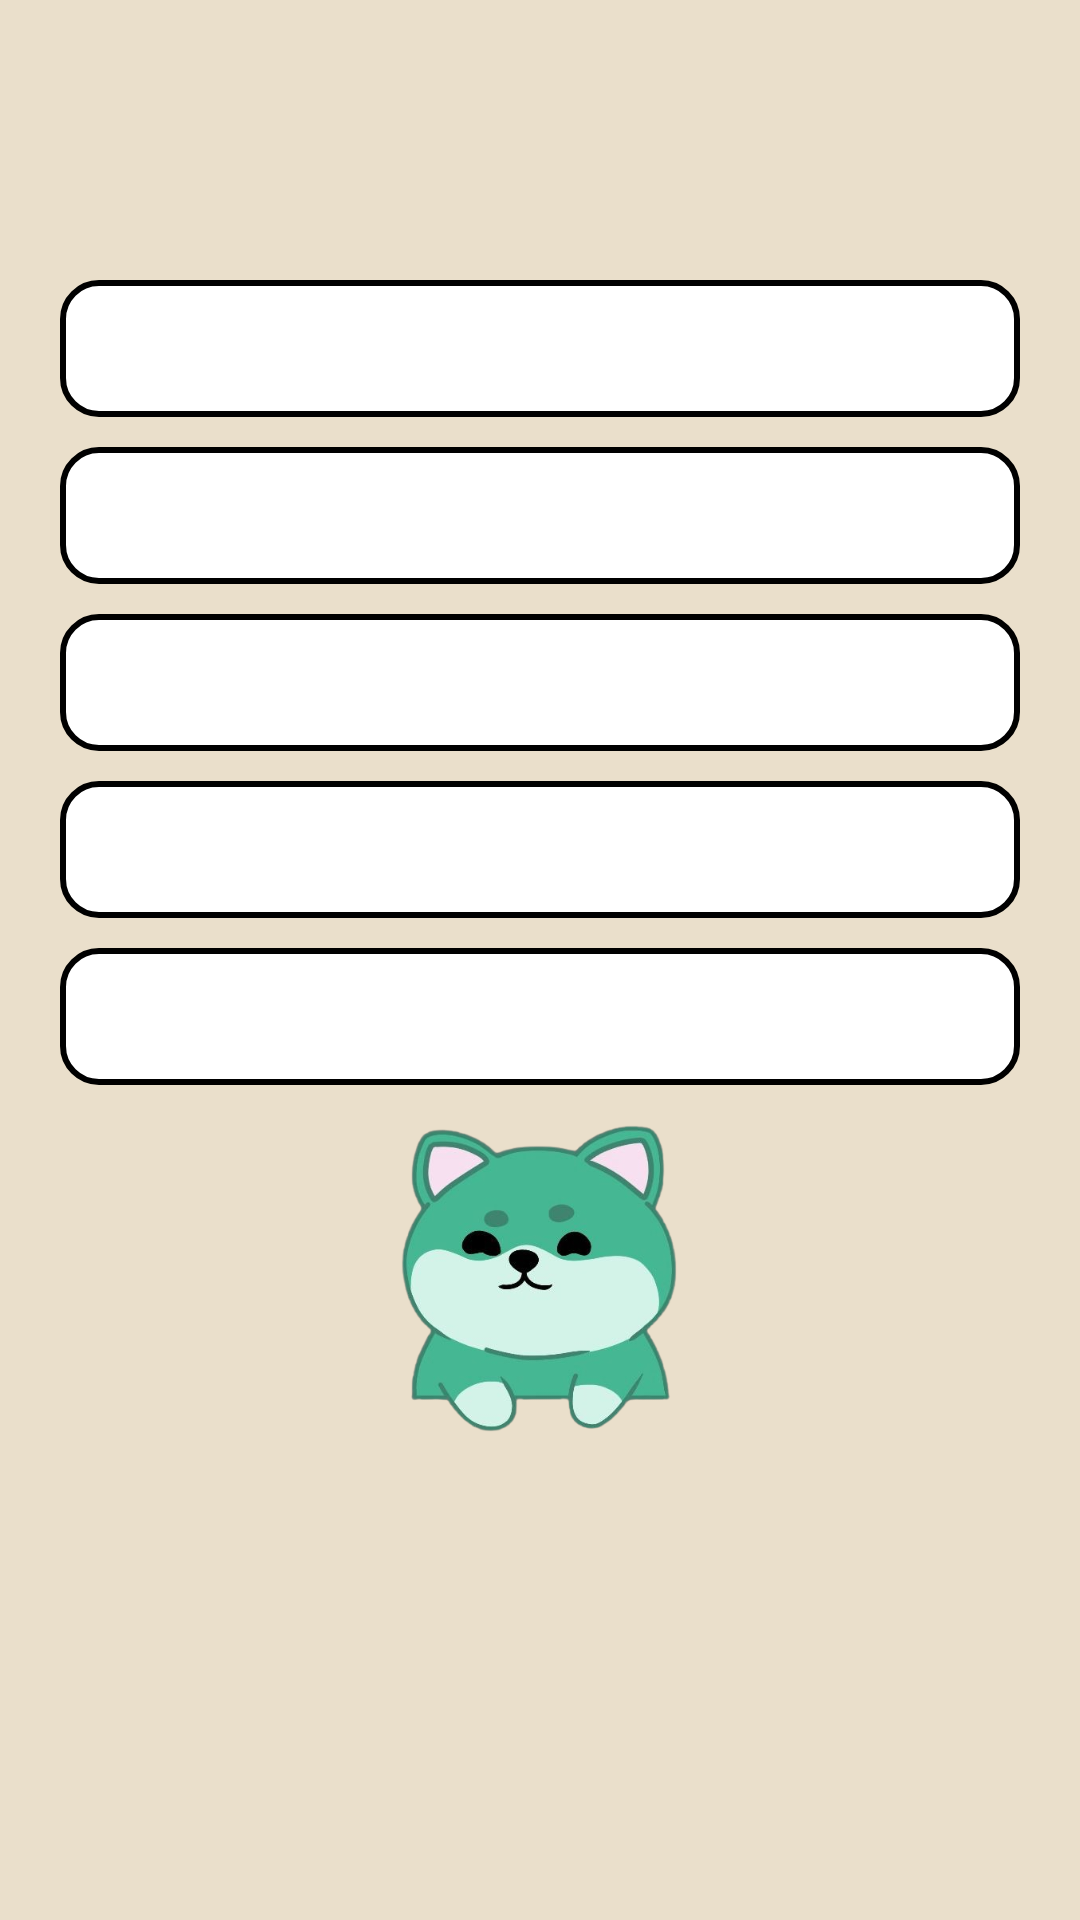

Where icons sit on this 1080w x 1920h app screen, as {"left": x1, "top": y1, "right": x2, "bottom": y2}:
Buddy mood: {"left": 402, "top": 1126, "right": 676, "bottom": 1431}
